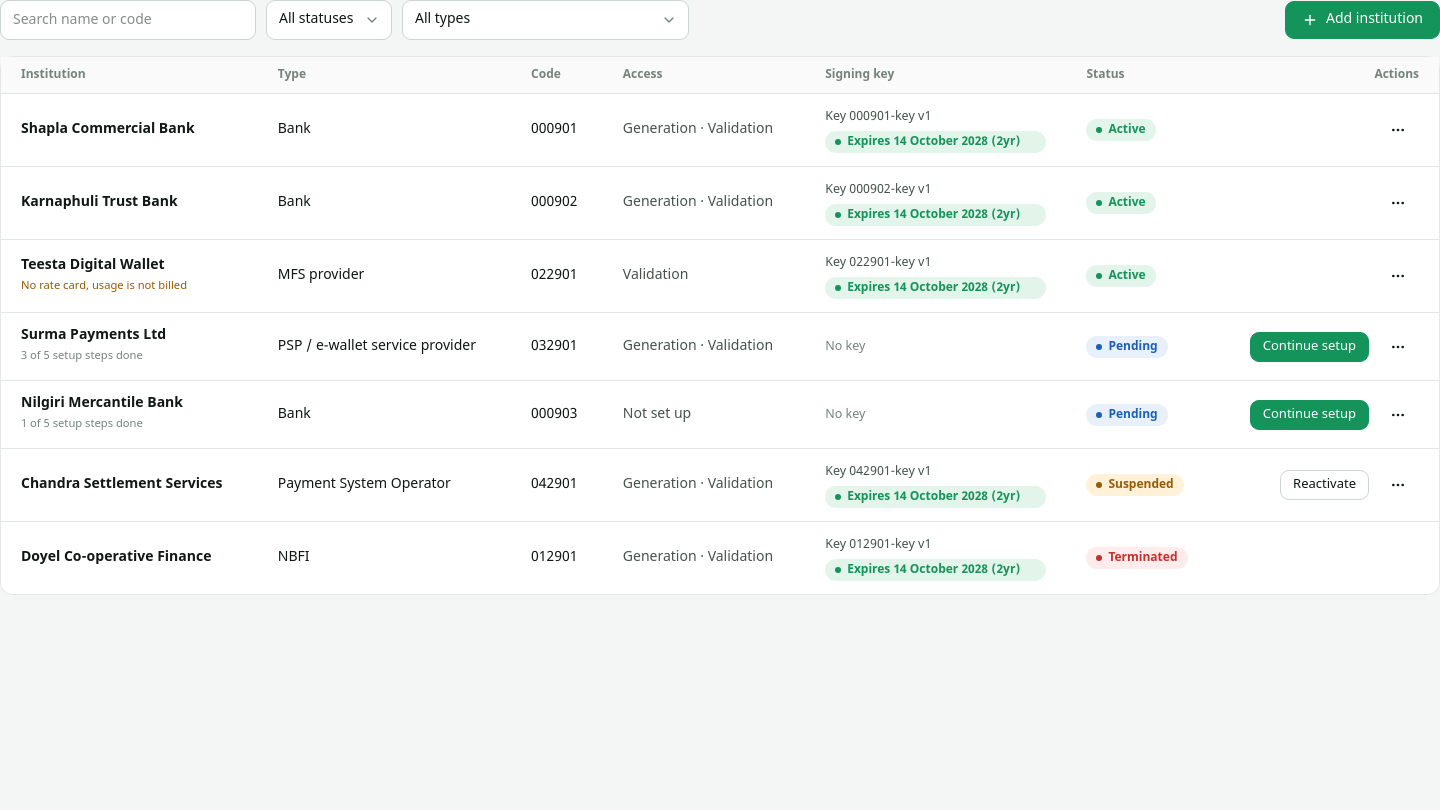
Test: institutions list › leaves a terminated institution with no actions
The image size is (1440, 810).
Expected: the link "Shapla Commercial Bank" is shown, 21,120 -> 195,139
What coordinates should you click on to do the following:
click the button named "More actions for Nilgiri Mercantile Bank"
I would click on:
 (1398, 414)
Its box is 1377,400 -> 1419,430.
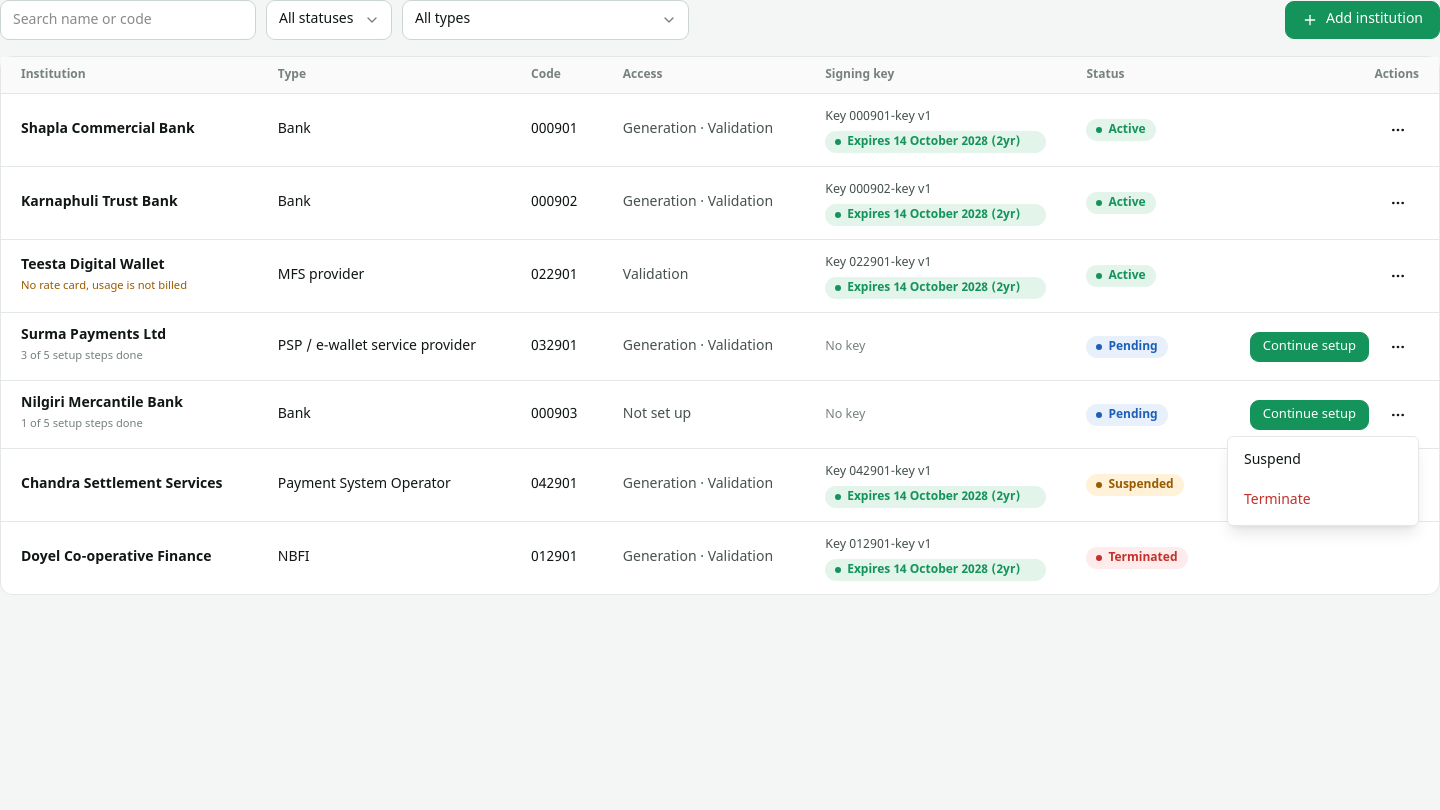
What coordinates should you click on to do the following:
click the menu item "Terminate"
I would click on:
 (1277, 500)
Its box is 1244,491 -> 1311,510.
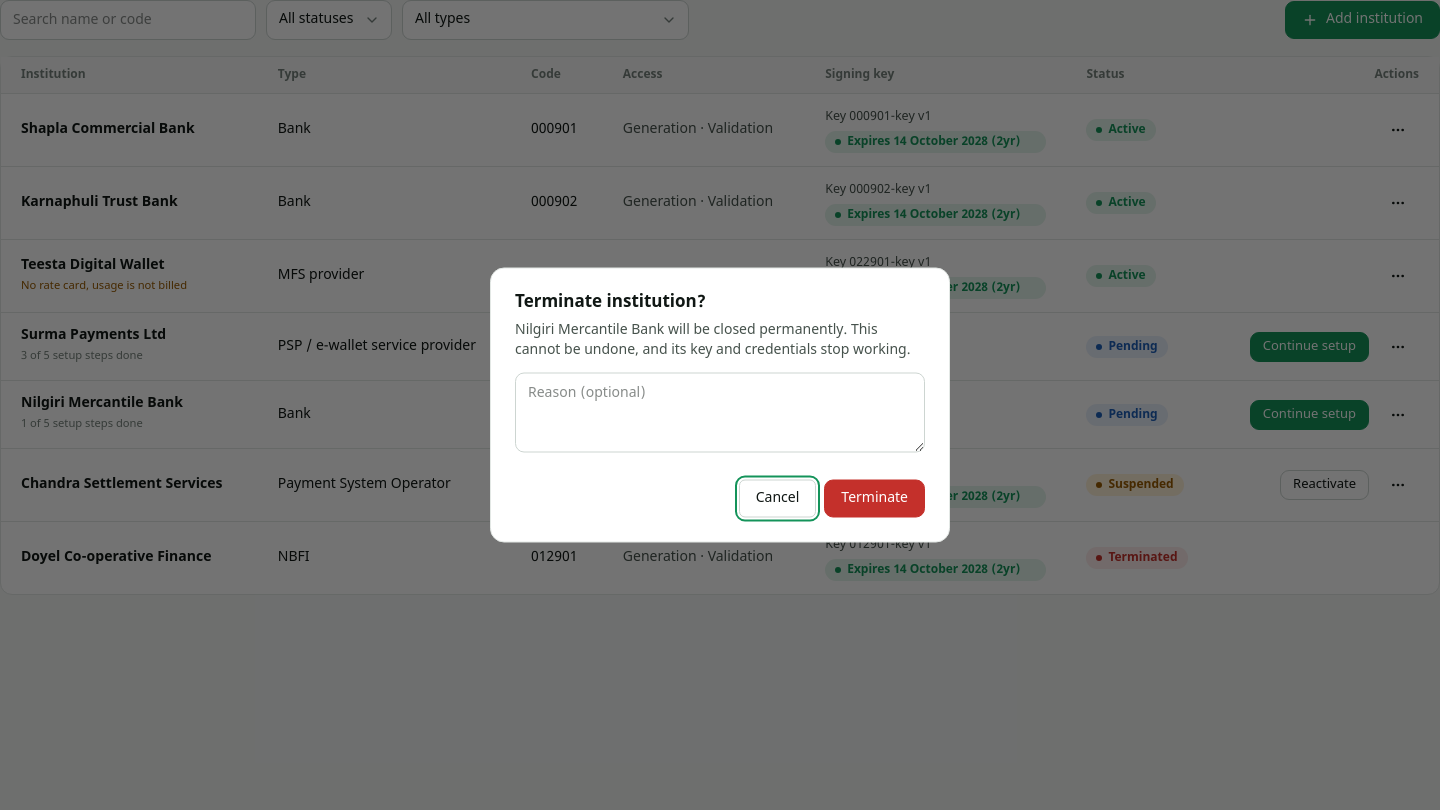
What coordinates should you click on to do the following:
click the button "Terminate"
I would click on:
 (875, 498)
Its box is 824,480 -> 925,518.
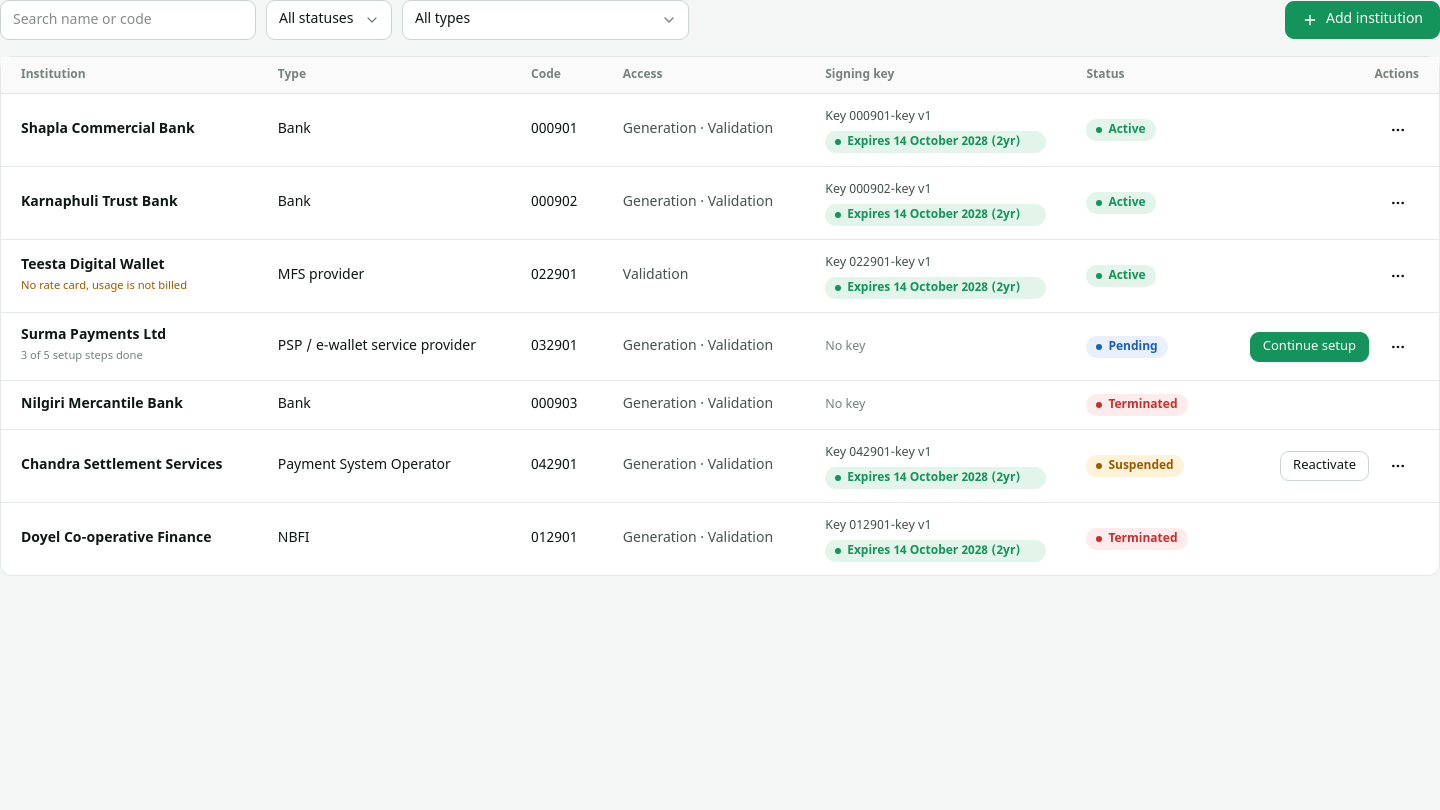
Expected: the text "Terminated" is shown, 1086,394 -> 1188,416
